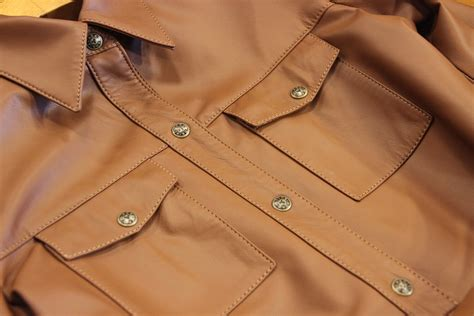cuero: (1, 1, 474, 316)
